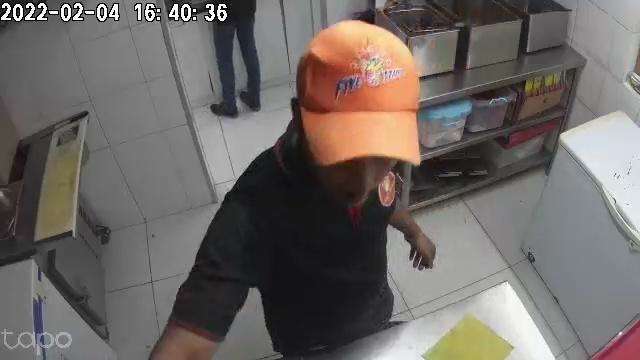no_gloves: (402, 225, 437, 274)
